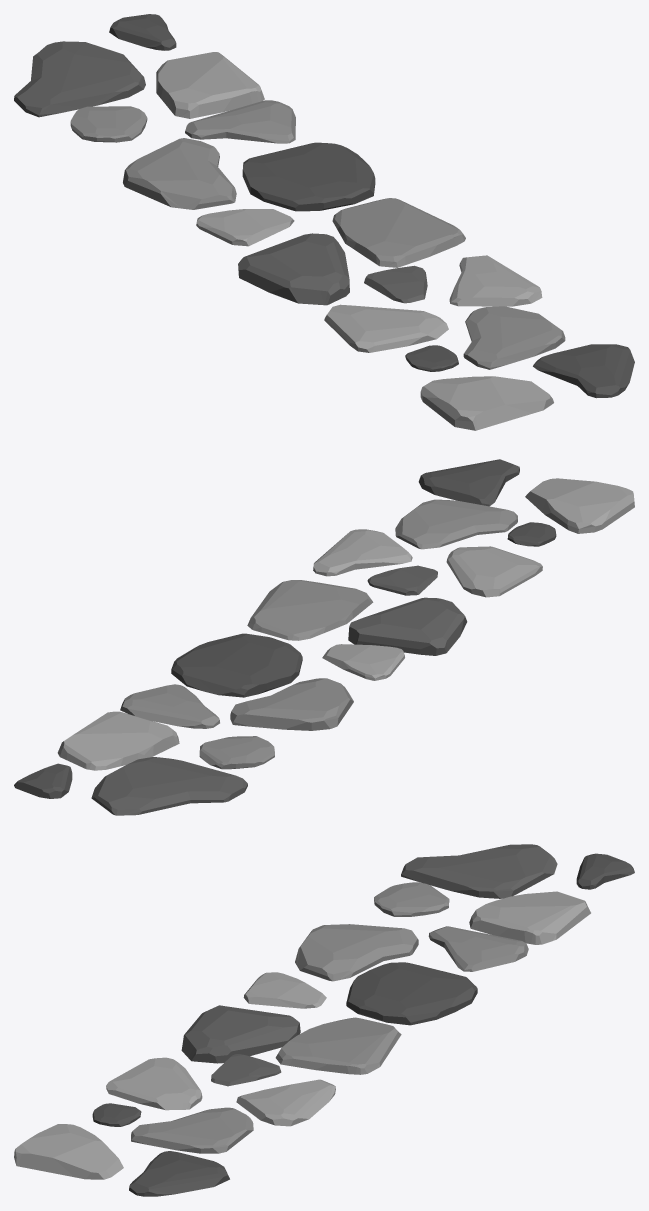
Rendered from CobbleStoneE02.fbx.
The picture shows the model from 3 angles, top to bottom: view 1: azimuth 30°, elevation 25°; view 2: azimuth 150°, elevation 25°; view 3: azimuth 330°, elevation 25°; orthographic projection. The views are drawn at different scales.
Visible parts, largest first — view 1: LOD0; view 2: LOD0; view 3: LOD0.
Boxes of the visible parts, x1,y1,x2,y2 form: LOD0: (14, 14, 634, 430); LOD0: (14, 459, 634, 815); LOD0: (14, 844, 634, 1196).
Size of what is drawn, in the model's own units: 258 by 1077 by 21.52.
